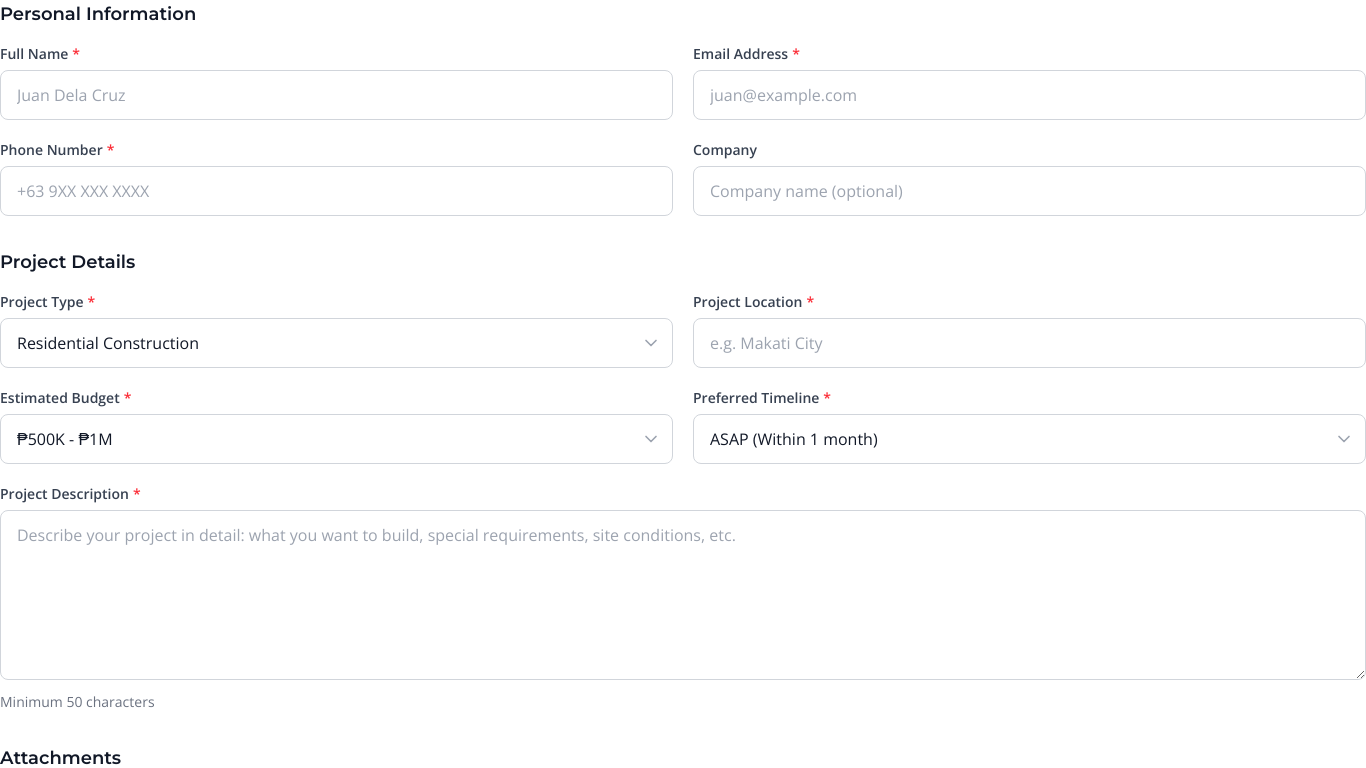
QuoteForm › Validation › shows error for short description
This screenshot has width=1366, height=768.
In the text box labelled "Project Description*": (683, 595) [0,510,1365,680], type "Too short description."
(page scrolled)
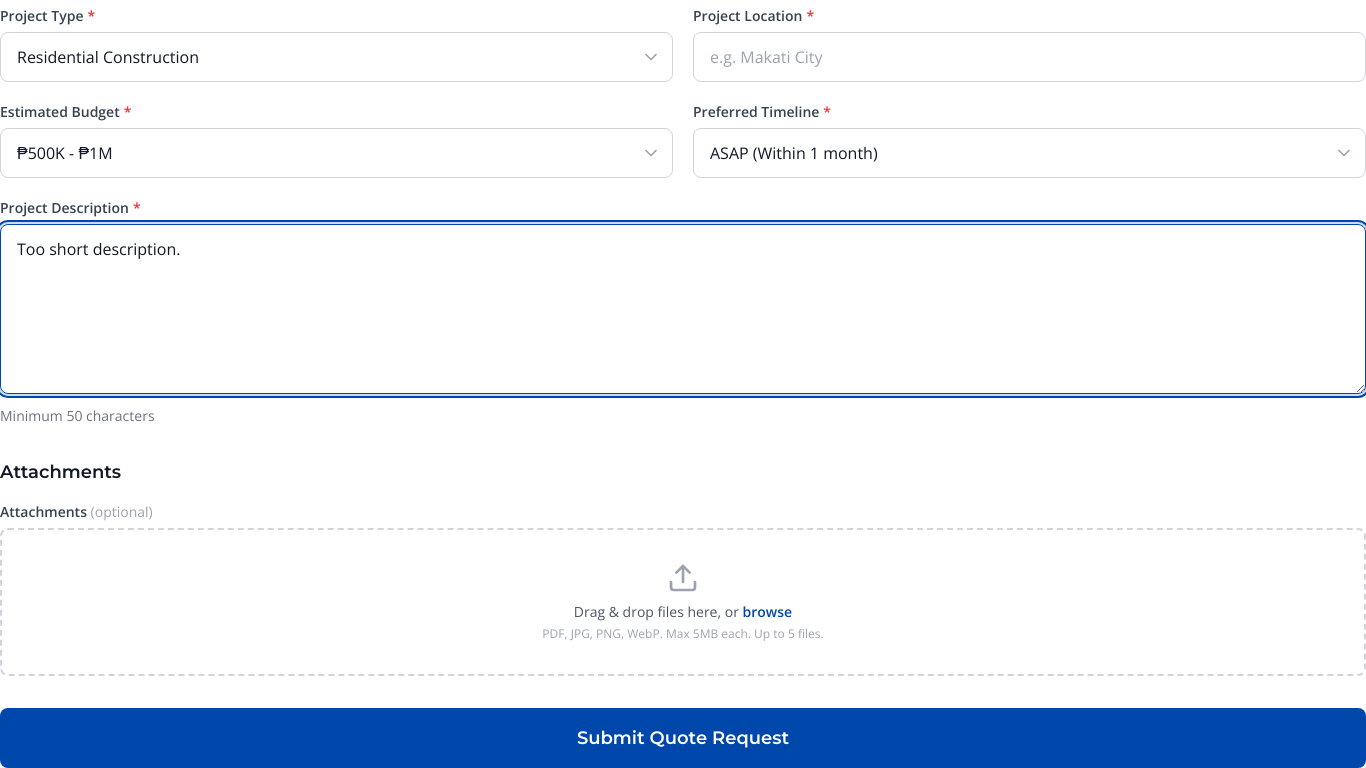
Click the button "Submit Quote Request": click(683, 738) [0,708,1365,767]
(page scrolled)
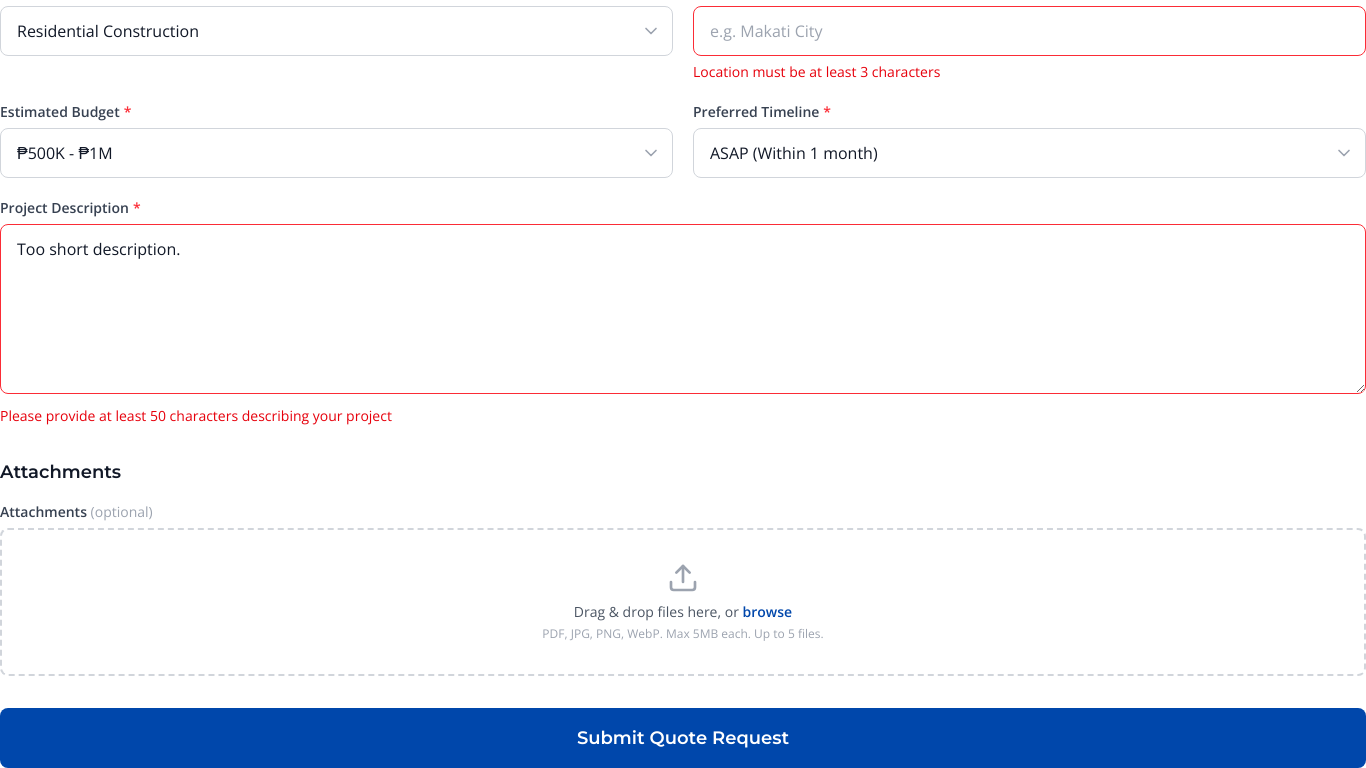
Check: the text "Please provide at least 50 characters describing your project" is shown, box [0,406,392,425]
